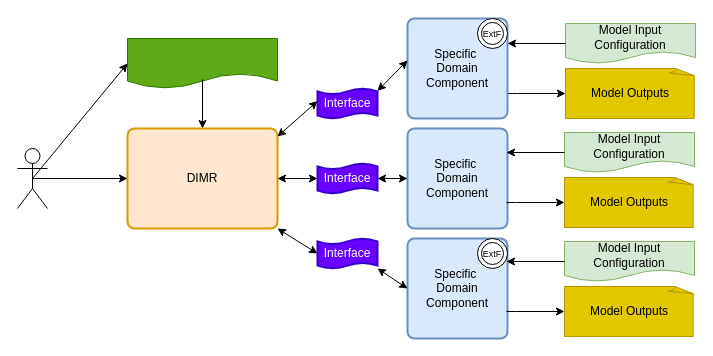
The diagram is 713 pixels wide and 356 high, and some of its shapes have lost their labels. The shapes that lost their labels are listed below. From the top down, each one's centre as x and y in pixels, then its label:
At (x=202, y=63): "Configuration".
At (x=32, y=178): "User".
